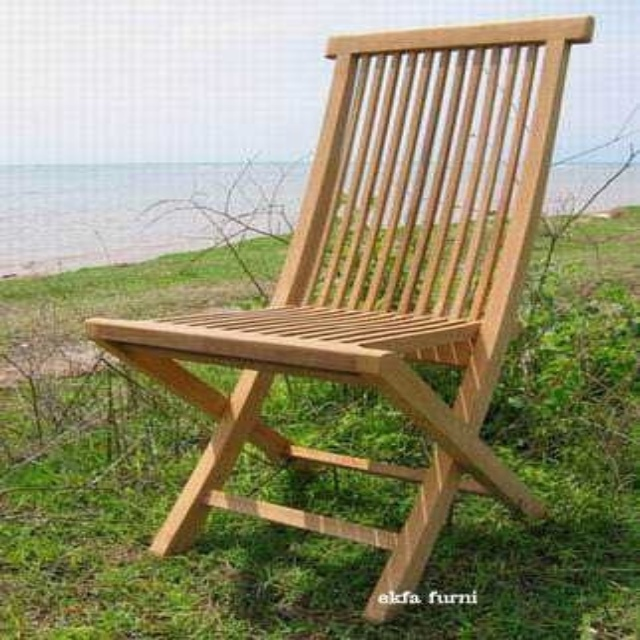obstacle: (87, 15, 592, 618)
